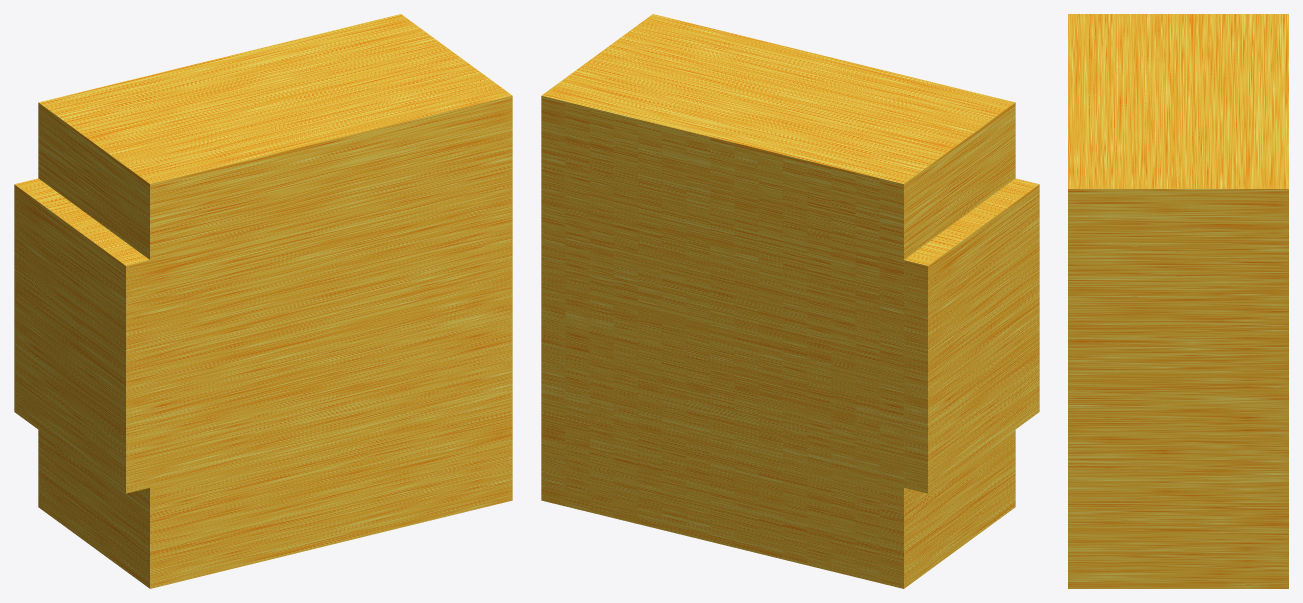
The model's file is tier2_piece_10.obj.
The picture shows the model from 3 angles, left to right: view 1: azimuth 30°, elevation 25°; view 2: azimuth 150°, elevation 25°; view 3: azimuth 270°, elevation 25°; orthographic projection.
Visible parts, largest first — view 1: tier2_piece_10; view 2: tier2_piece_10; view 3: tier2_piece_10.
Boxes of the visible parts, bbox=[...] form: tier2_piece_10: bbox=[14, 14, 512, 588]; tier2_piece_10: bbox=[541, 14, 1039, 588]; tier2_piece_10: bbox=[1068, 14, 1288, 588].
Bounding box in the file's own units: 1 × 1 × 0.5.
